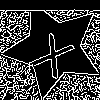X: (28, 23, 82, 80)
